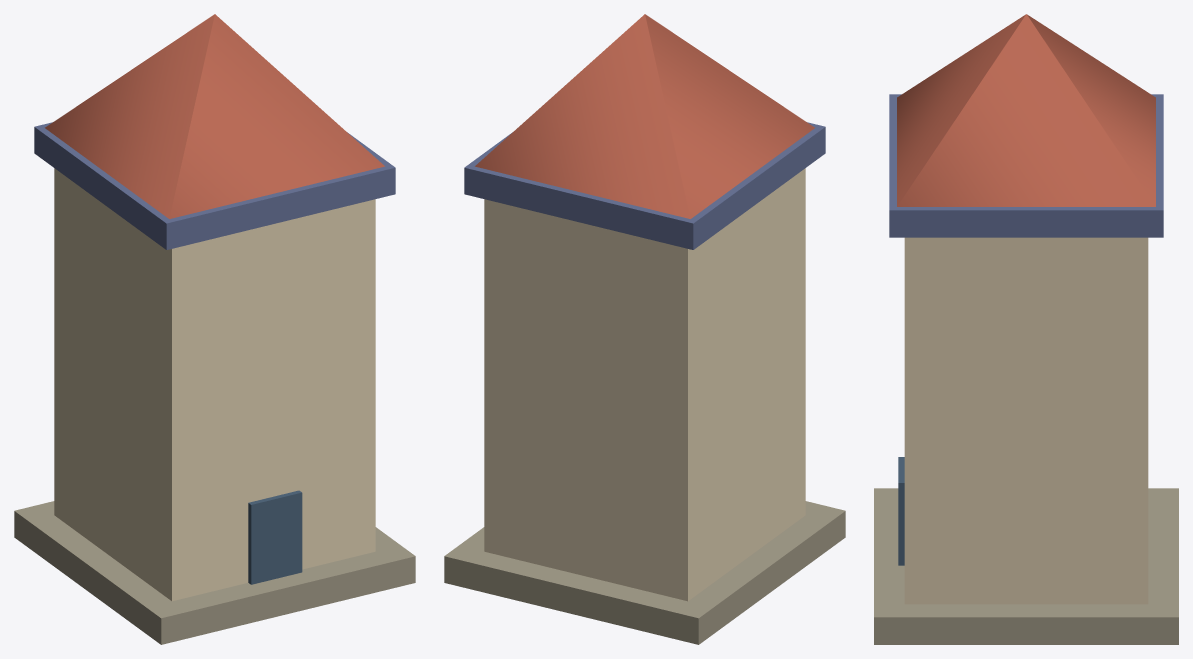
File: torre-atlas.glb
3 renders of one model, left to right at view 1: azimuth 30°, elevation 25°; view 2: azimuth 150°, elevation 25°; view 3: azimuth 270°, elevation 25°, orthographic. The views are drawn at different scales.
Parts seen in each view (by area): view 1: Cuerpo, Atlas original tower, Basamento, Cornisa, Puerta; view 2: Cuerpo, Atlas original tower, Basamento, Cornisa; view 3: Cuerpo, Atlas original tower, Basamento, Cornisa, Puerta.
Boxes of the visible parts, box(x1,y1,x2,y2) form: Cuerpo: box(54, 168, 375, 601); Atlas original tower: box(45, 14, 384, 218); Basamento: box(14, 501, 415, 644); Cornisa: box(34, 122, 395, 249); Puerta: box(248, 490, 302, 584); Cuerpo: box(484, 168, 805, 601); Atlas original tower: box(475, 14, 814, 218); Basamento: box(444, 501, 845, 644); Cornisa: box(464, 122, 825, 249); Cuerpo: box(904, 237, 1148, 604); Atlas original tower: box(897, 14, 1155, 206); Basamento: box(874, 488, 1178, 644); Cornisa: box(889, 94, 1163, 237); Puerta: box(898, 457, 904, 565).
Bounding box in the file's own units: 10 × 20.5 × 10.
